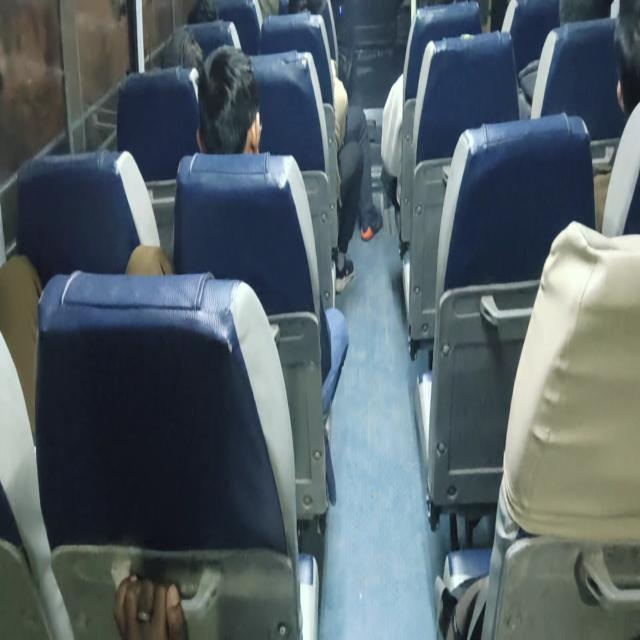person: (125, 43, 349, 503), (125, 43, 262, 276), (285, 1, 383, 293), (195, 44, 262, 154), (113, 572, 189, 638)
